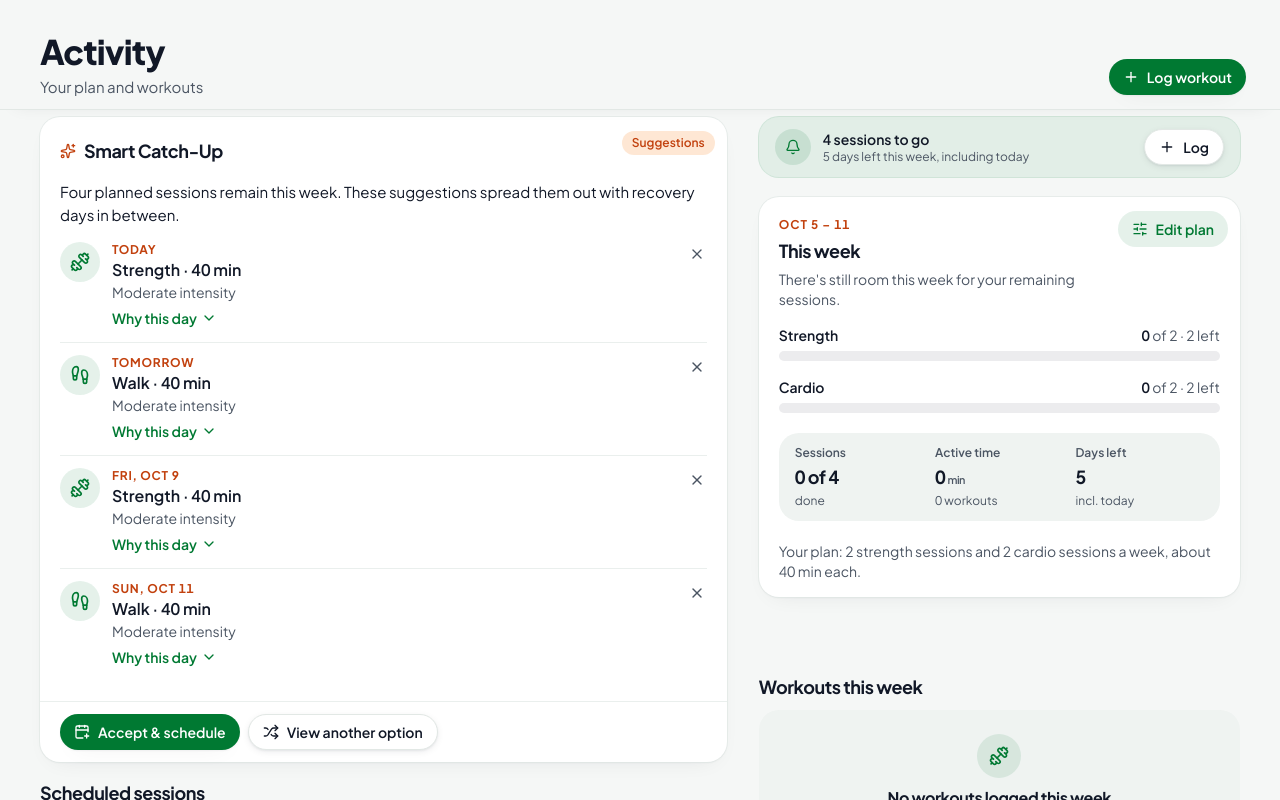
Test: Activity: logging workouts › saves calories the user typed instead of the estimate
The width and height of the screenshot is (1280, 800).
Expected: the heading "This week" is shown, [779,239,860,262]
Click the button "Log workout" at (1177, 77), box [1109,59,1246,95]
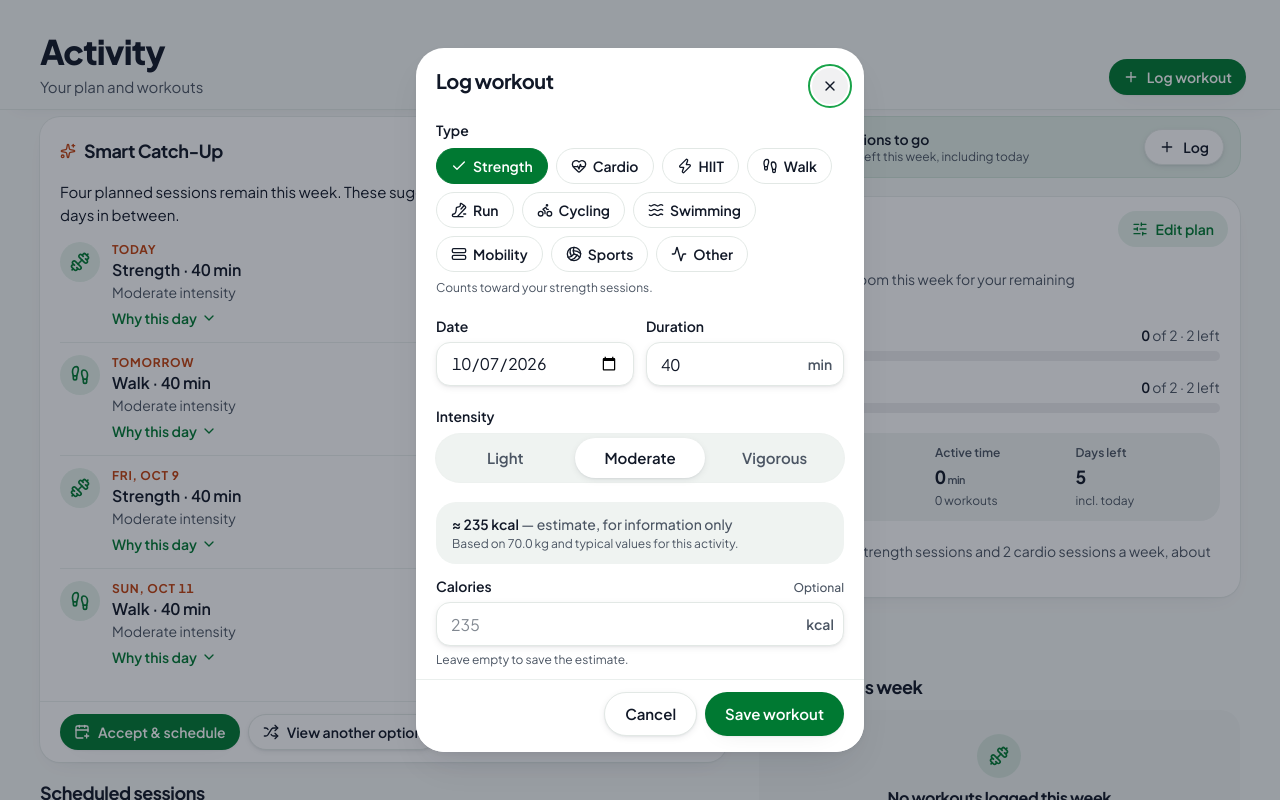
Type "410" into the field labelled "Calories Optional" at (640, 624), box [436,602,844,646]
(page scrolled)
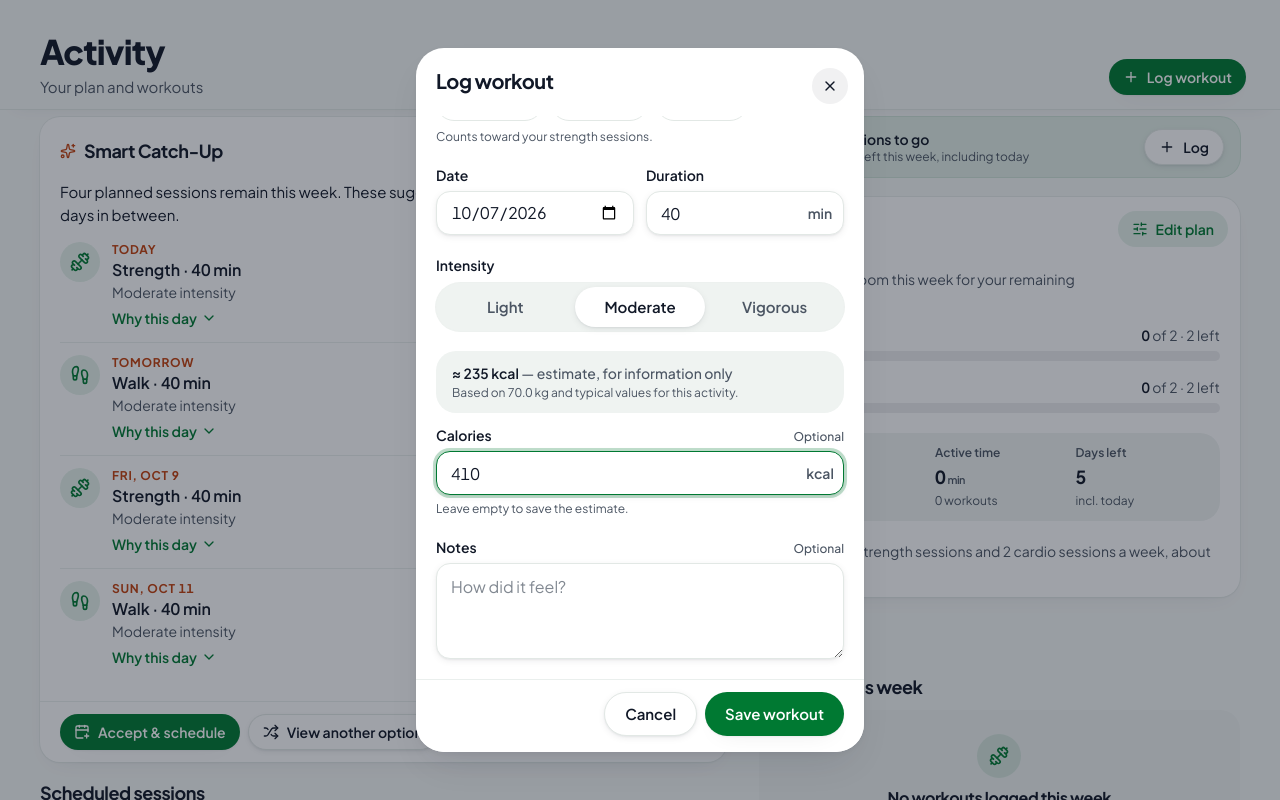
Type "Upper body" into the text box labelled "Notes Optional" at (640, 611), box [436,563,844,659]
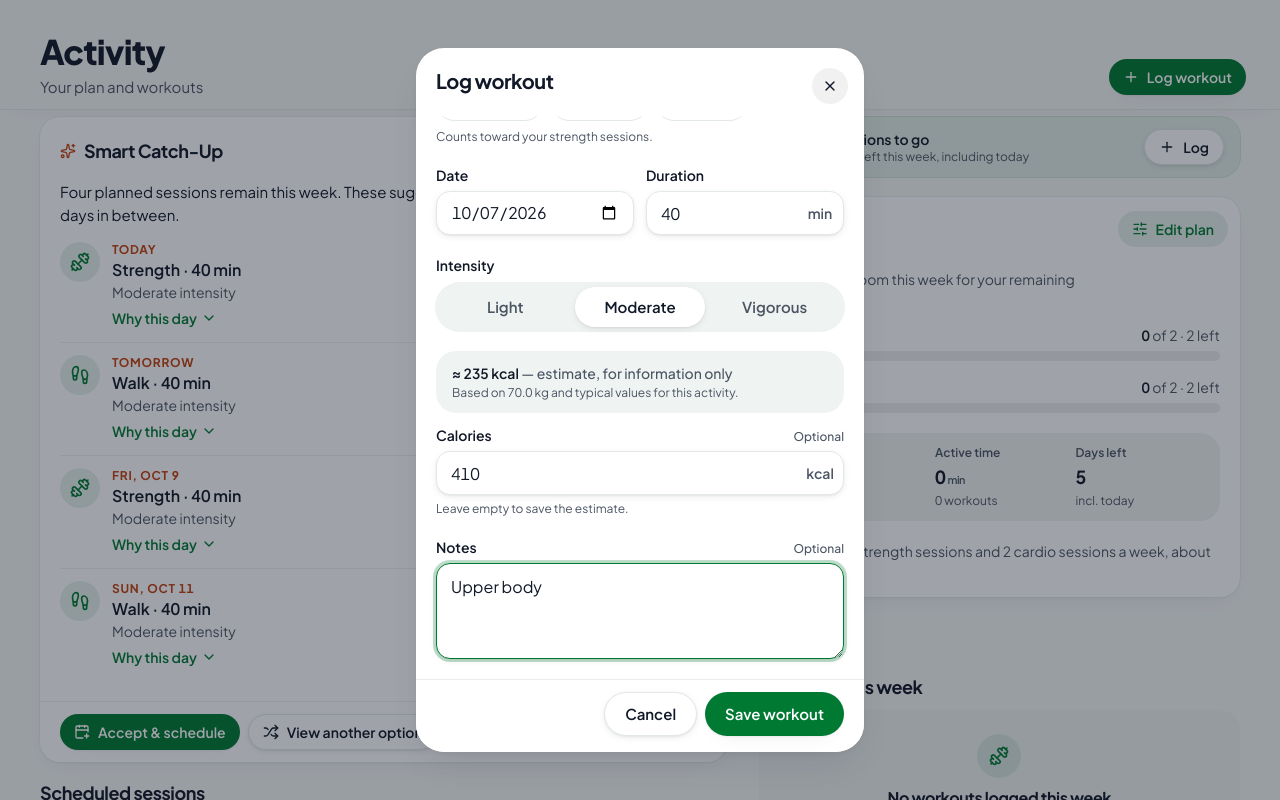
Click the button "Save workout" at (775, 714), box [705,692,844,736]
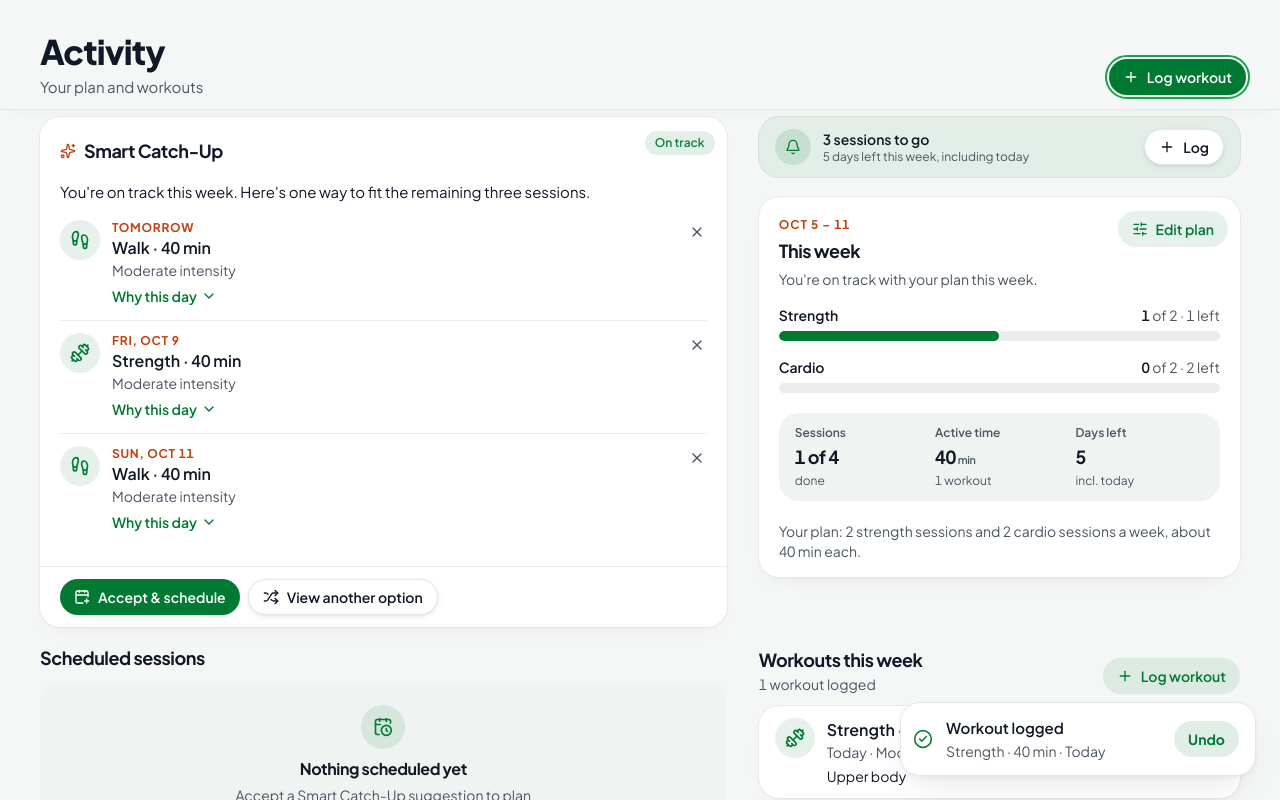
Expected: the text "Strength · 40 min" below "1 workout logged" is shown, [827,718,956,742]
Result: the text "Upper body" is shown at [827,767,906,785]
